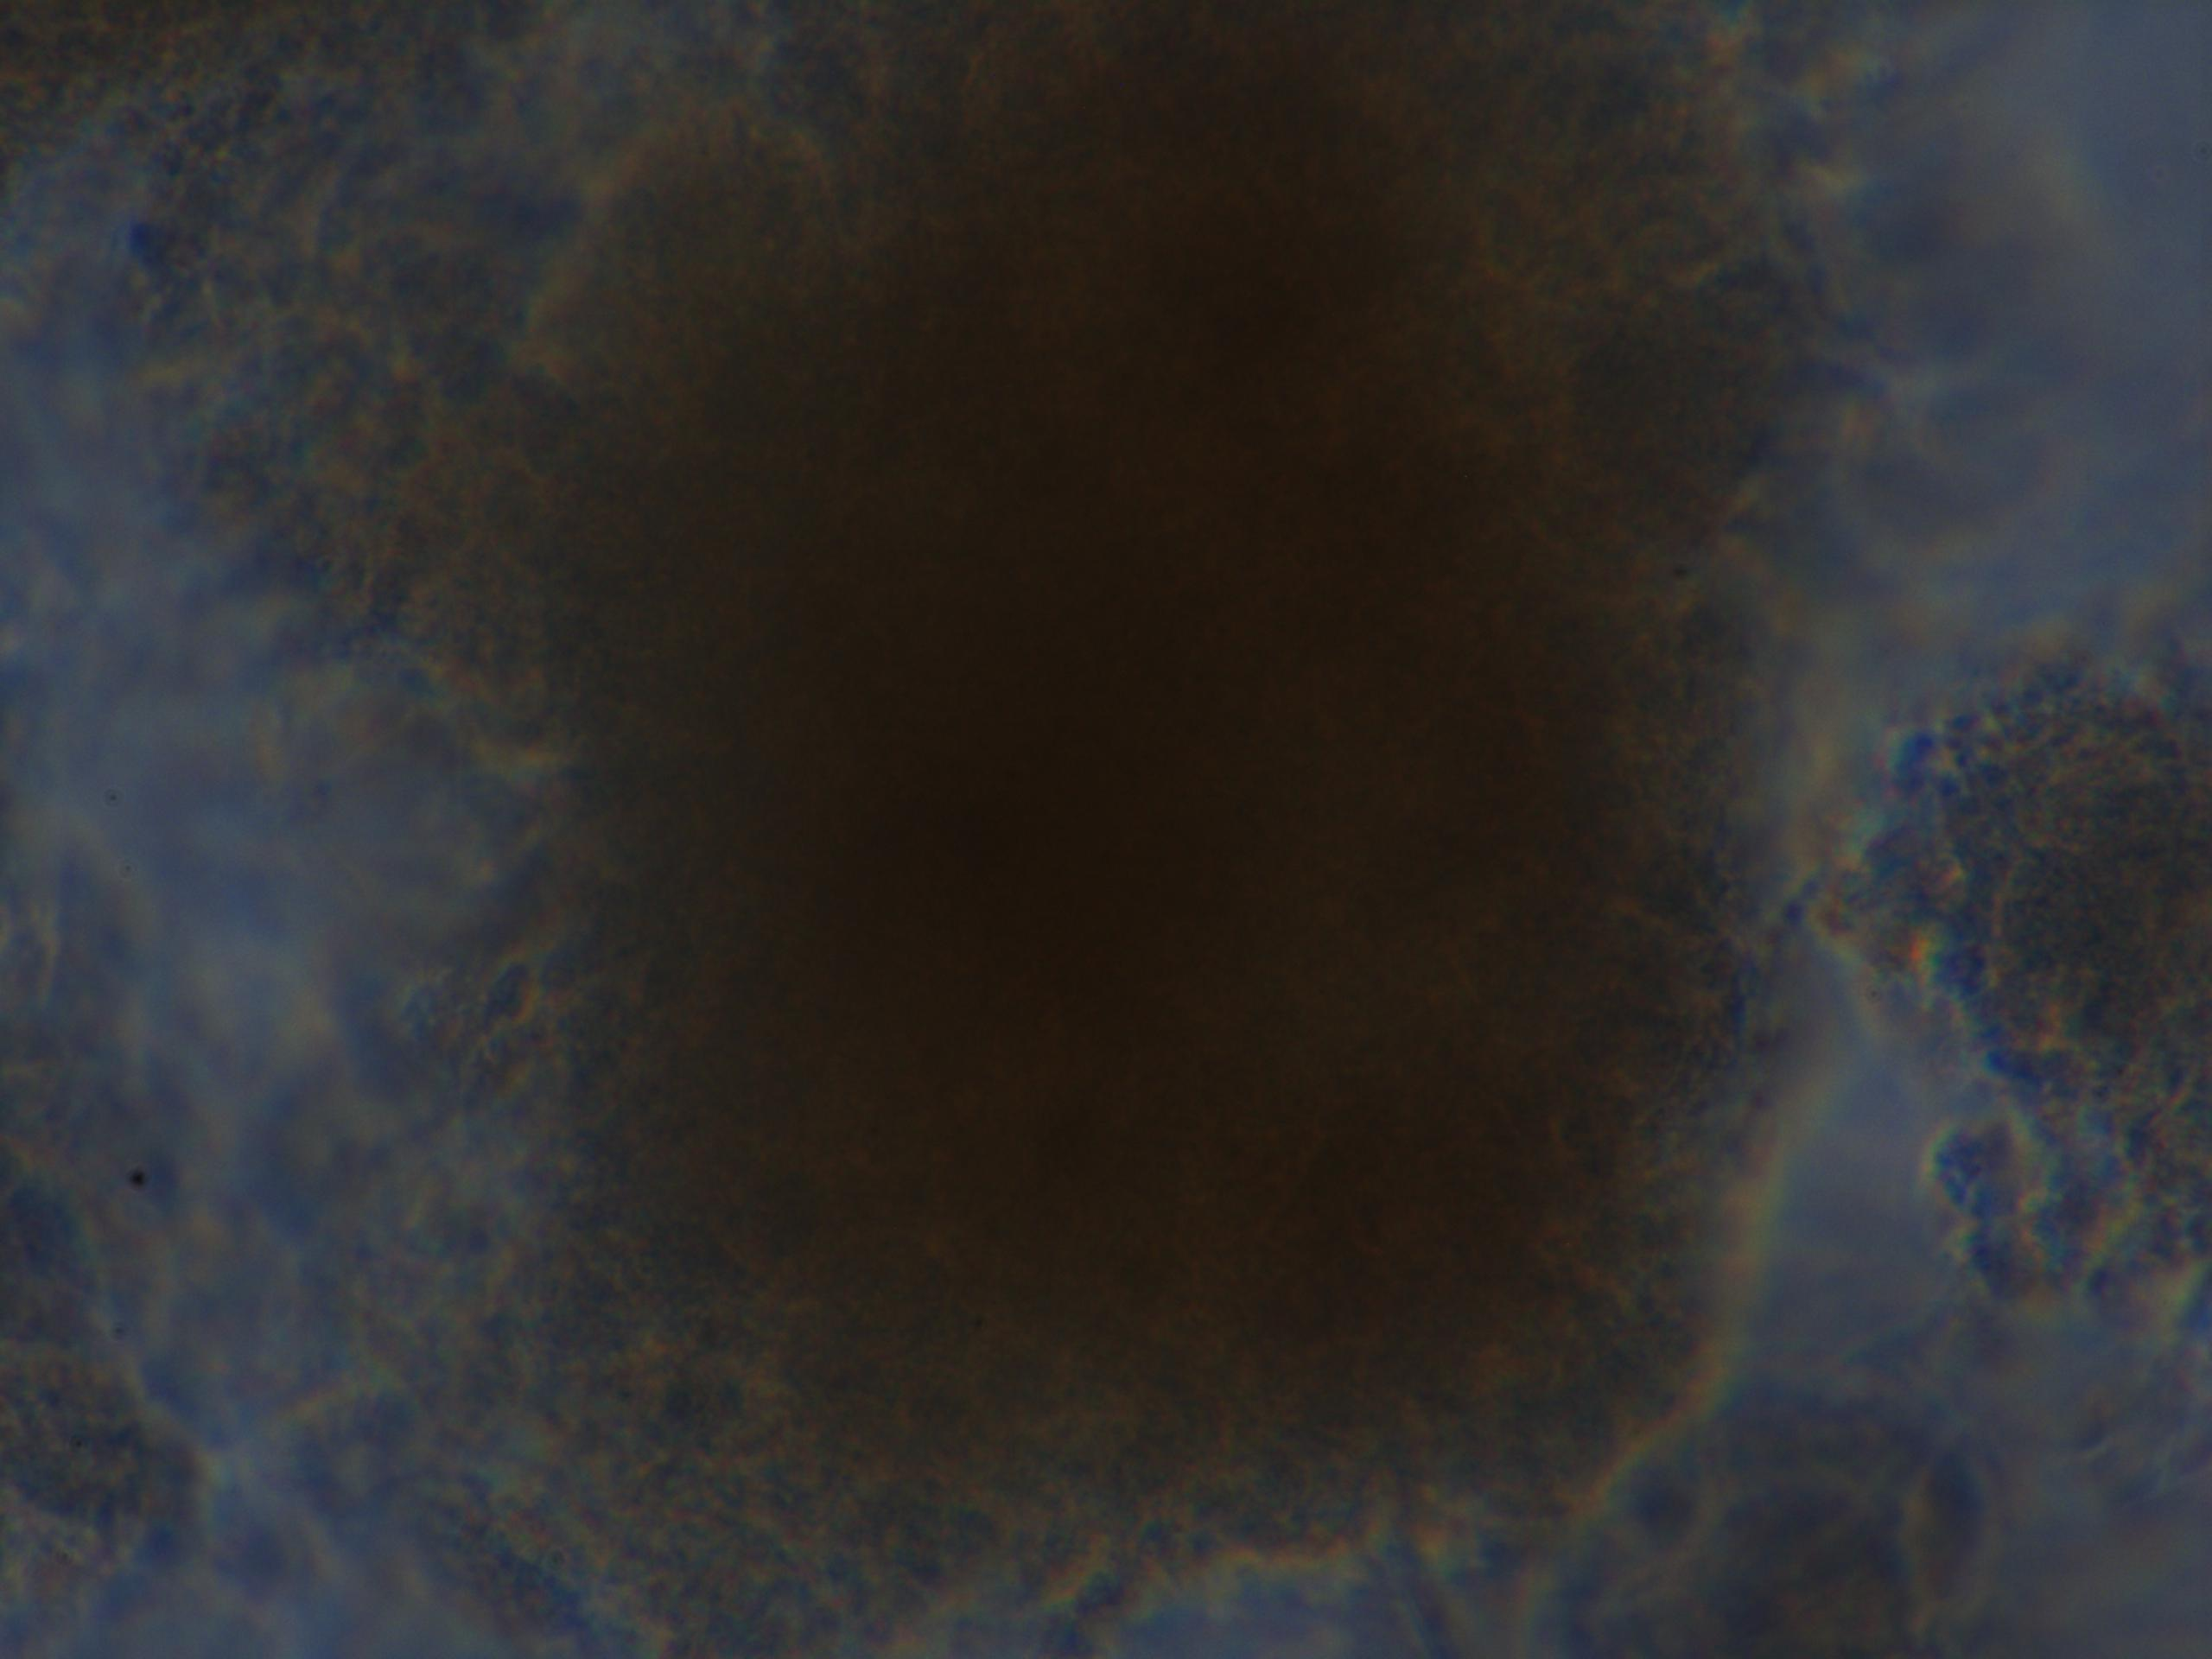spherical_floc: (397, 7, 1843, 1600)
